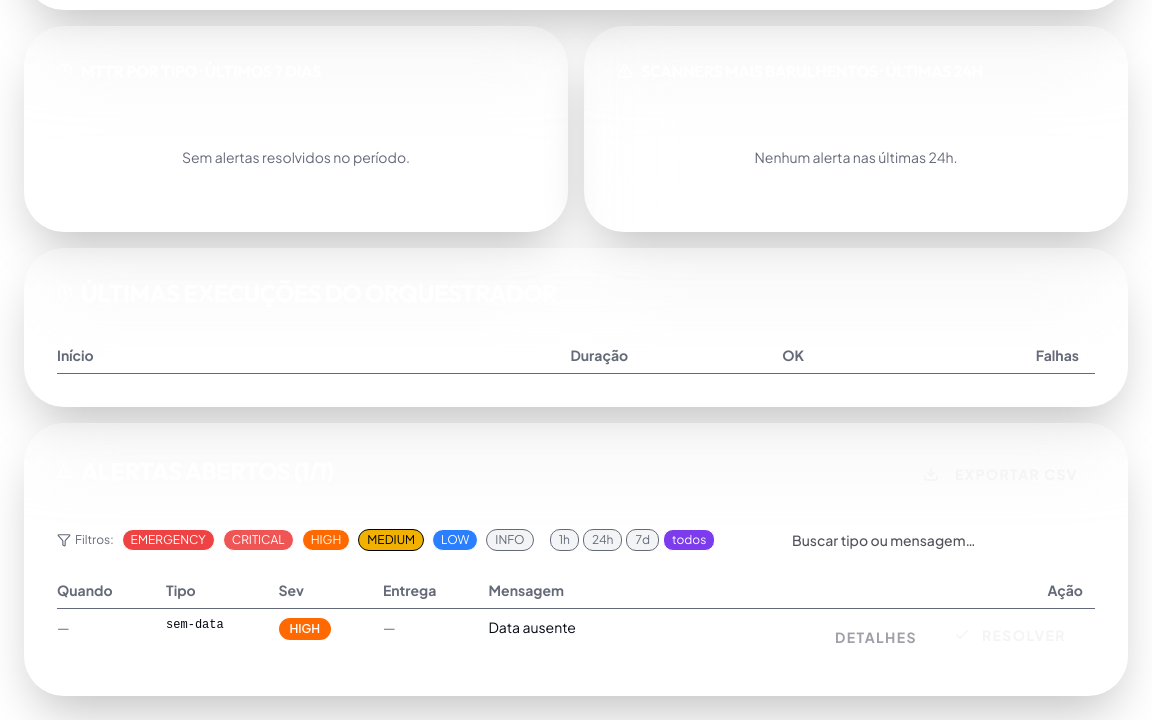
contratos do dashboard de saude › mostra alerta sem data no periodo completo e o exclui de periodo recente
This screenshot has width=1152, height=720.
(page scrolled)
Expected: the text "Data ausente" is shown, [489, 608, 649, 663]
Click the button named "Período 1h": (564, 540) [550, 529, 579, 551]
(page scrolled)
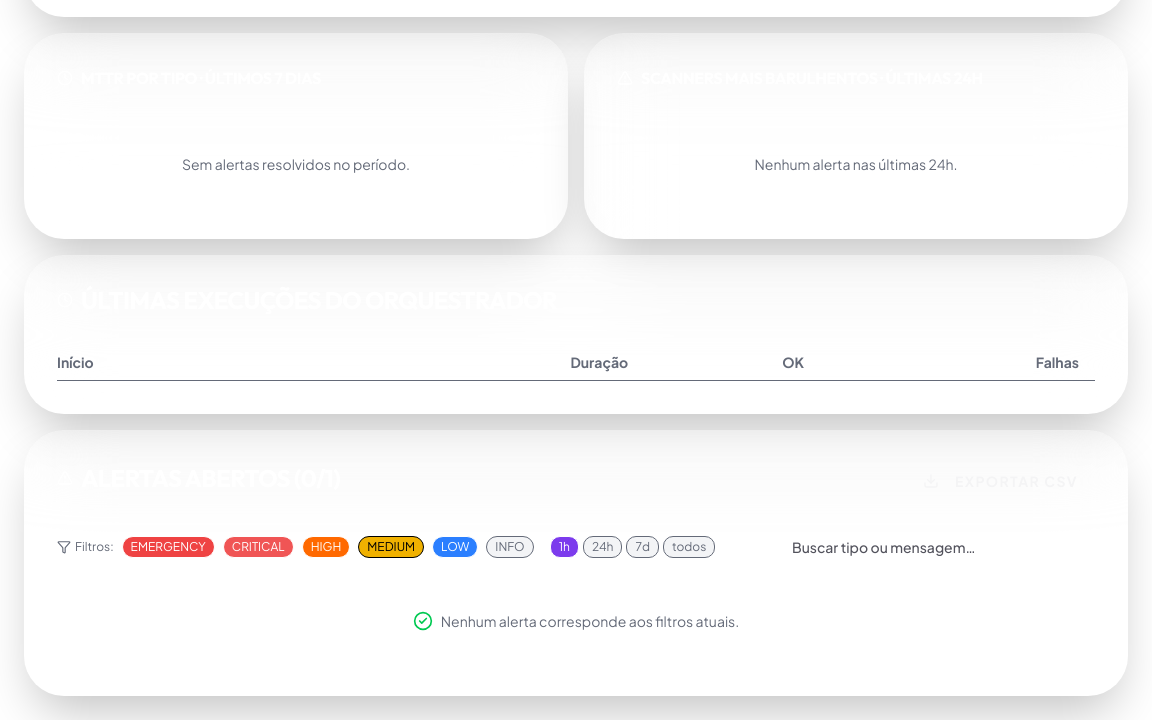
Now the text "Data ausente" is gone
Now the text "Nenhum alerta corresponde aos filtros atuais." is shown, box [413, 611, 739, 631]
